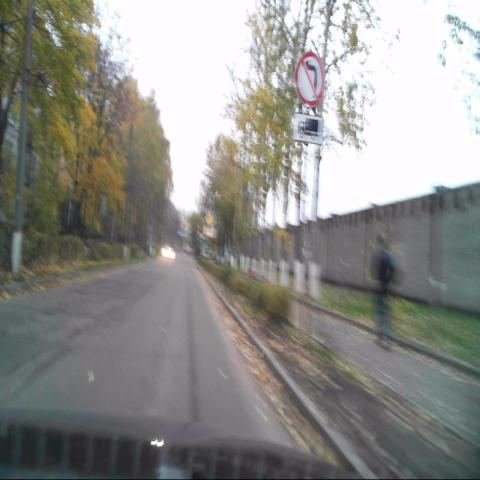3_18_2: (294, 52, 325, 106)
8_4_1: (292, 114, 324, 144)
